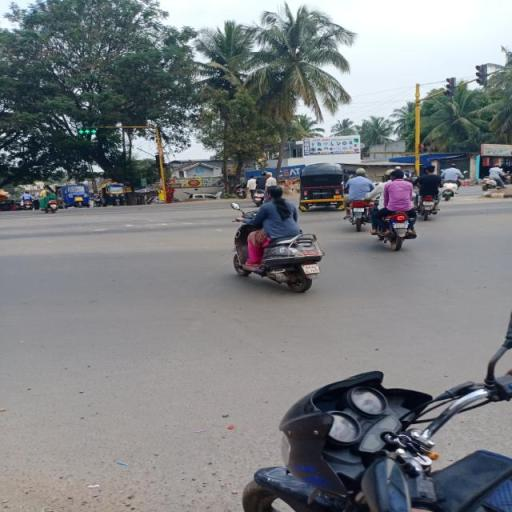bike: (227, 184, 329, 292)
numberplate: (300, 261, 321, 276)
withouthelmet: (265, 186, 283, 200)
